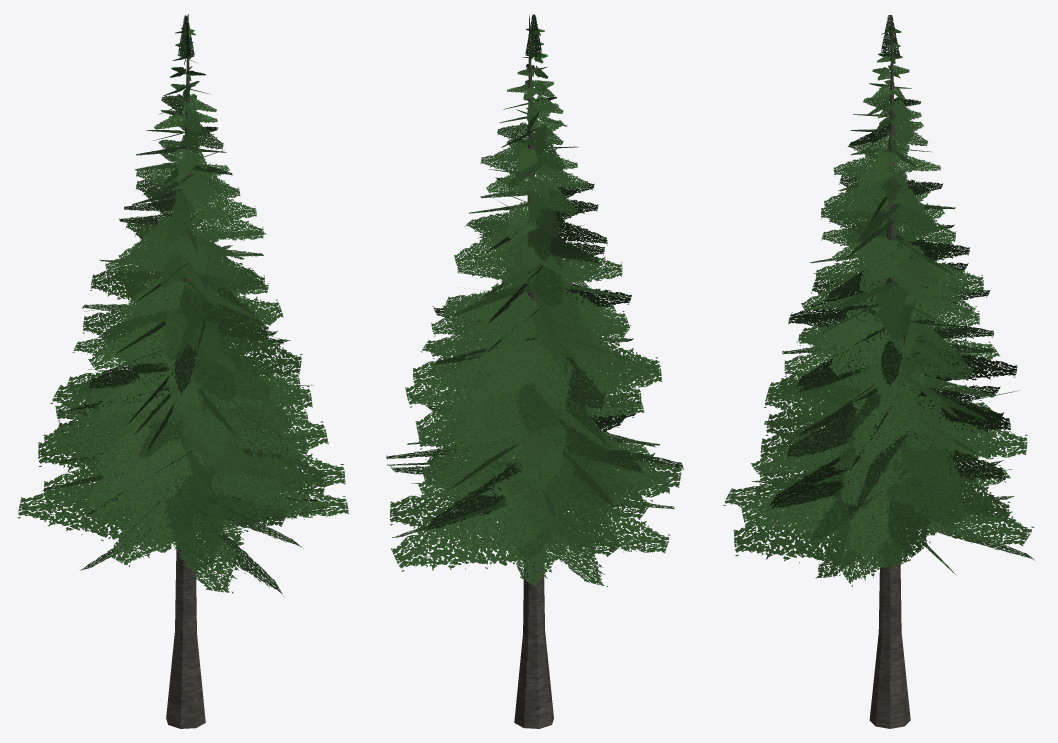
File: SM_fir_02.fbx
The picture shows the model from 3 angles, left to right: view 1: azimuth 30°, elevation 25°; view 2: azimuth 150°, elevation 25°; view 3: azimuth 270°, elevation 25°; orthographic projection.
Visible parts, largest first — view 1: SM_fir_02; view 2: SM_fir_02; view 3: SM_fir_02.
Boxes of the visible parts, <box> form: SM_fir_02: <box>17,14,348,728</box>; SM_fir_02: <box>386,14,683,728</box>; SM_fir_02: <box>723,15,1035,728</box>.
Size of the model in its own units: 10.5 by 26 by 10.93.
